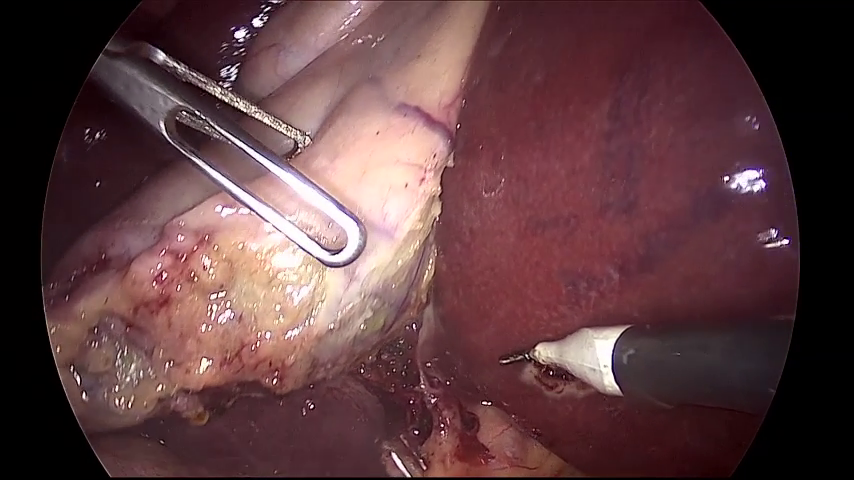grasper: (89, 41, 367, 266)
lhook: (499, 318, 794, 418)
